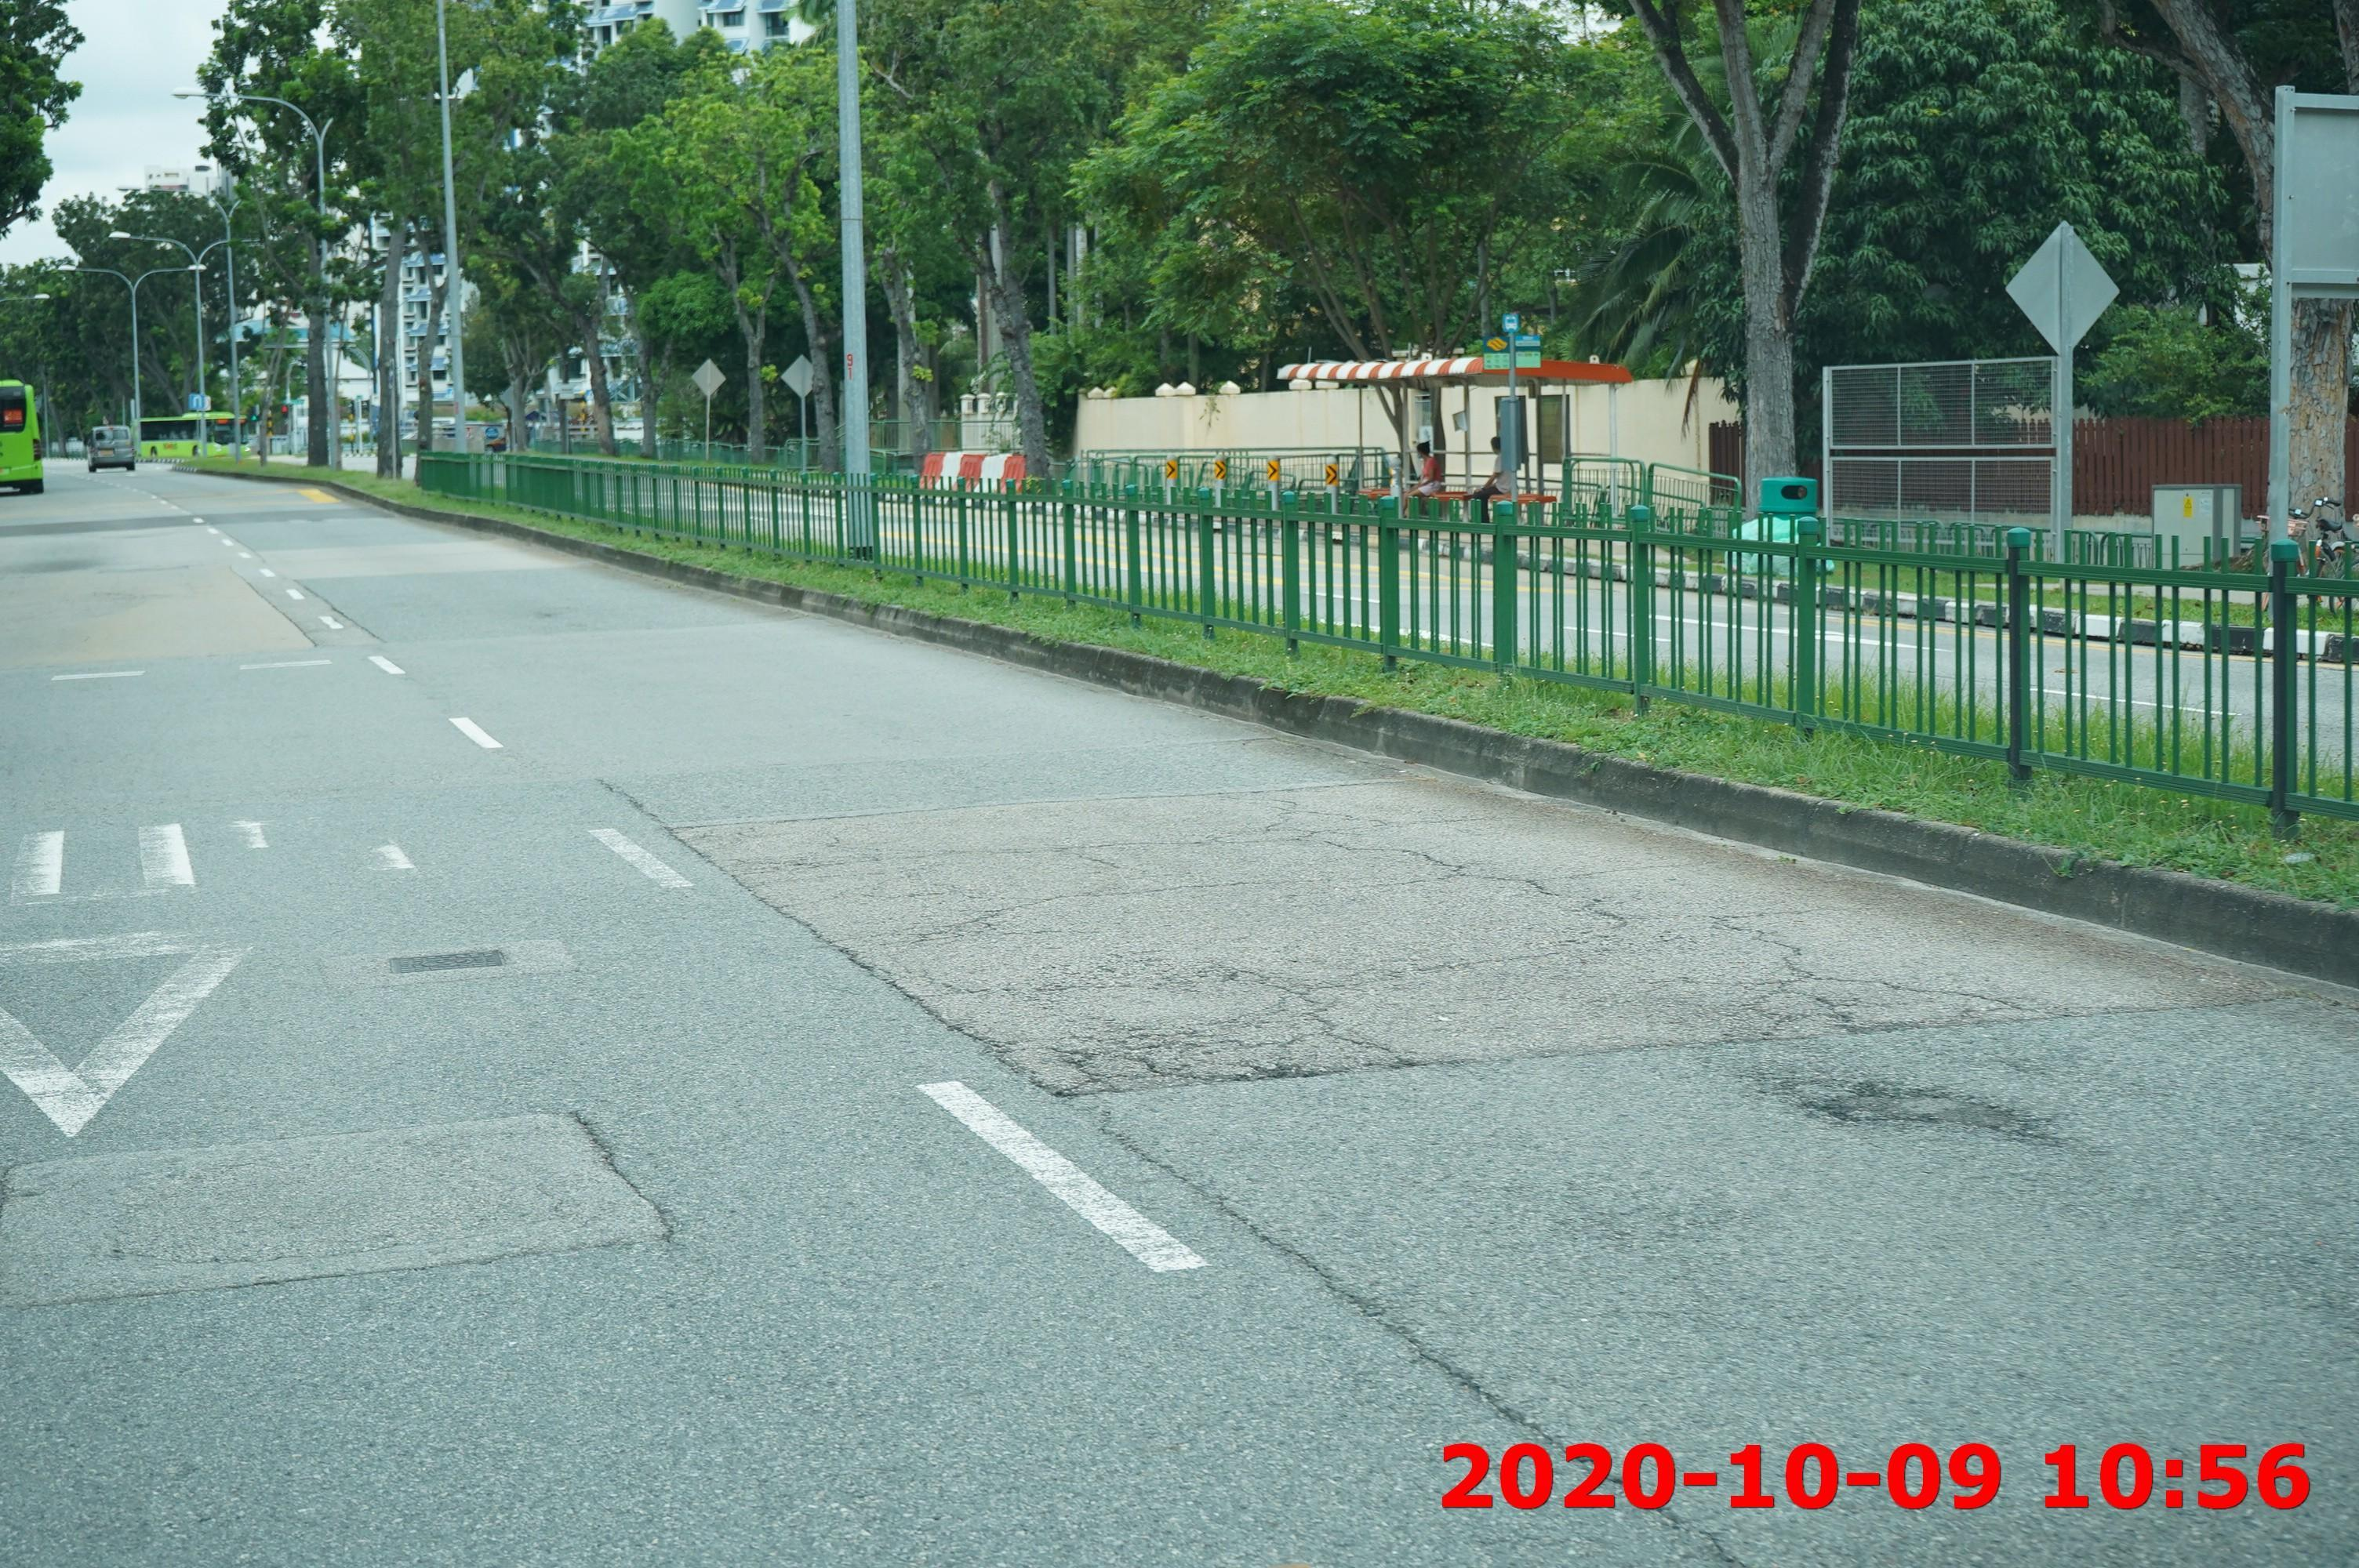single crack: (546, 1090, 700, 1260)
wearing course peeling off: (1795, 1066, 2023, 1139)
